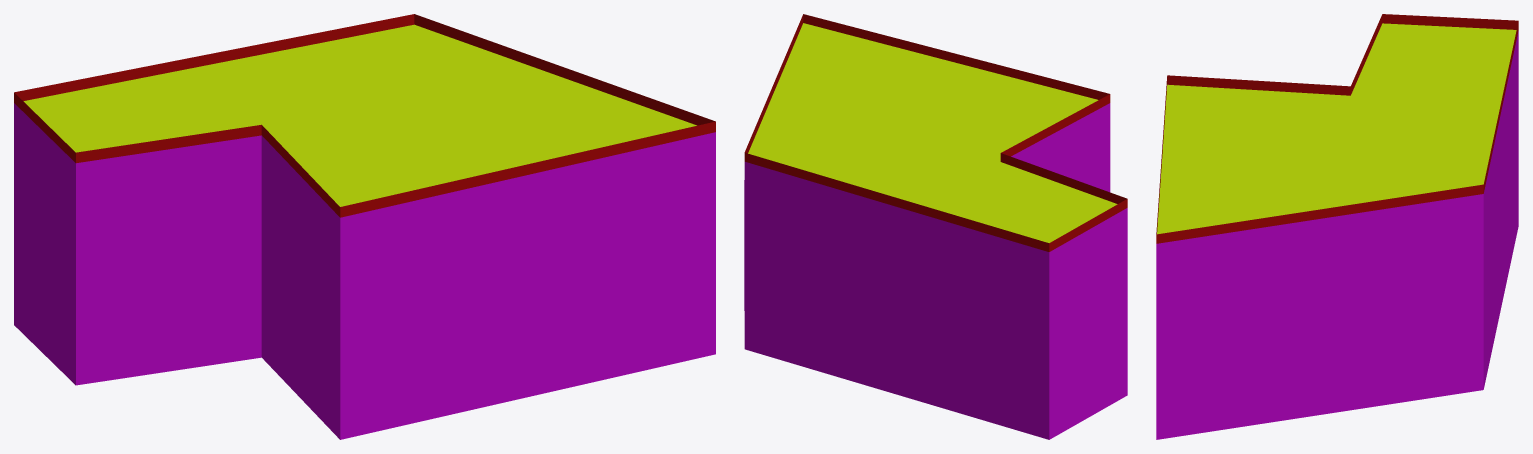
Rendered from bgj_270.glb.
3 views of the same model, side by side, from view 1: azimuth 30°, elevation 25°; view 2: azimuth 150°, elevation 25°; view 3: azimuth 270°, elevation 25° (orthographic). The views are drawn at different scales.
Visible parts, largest first — view 1: bgj_270; view 2: bgj_270; view 3: bgj_270.
Part boxes in pixels (<box>): bgj_270: <box>14,14,715,439</box>; bgj_270: <box>744,14,1127,439</box>; bgj_270: <box>1156,14,1518,439</box>.
Size of the model in its own units: 17.57 by 7.64 by 12.21.
